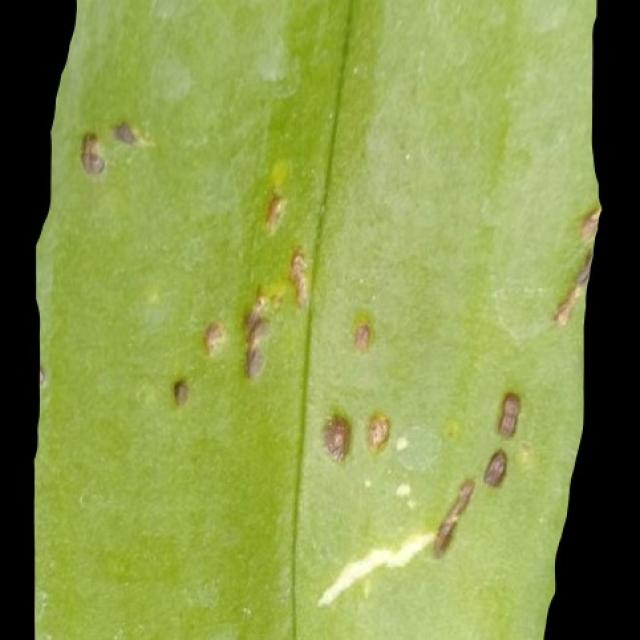mite: (315, 385, 527, 556), (316, 388, 524, 466), (479, 388, 523, 490), (319, 408, 393, 463), (495, 389, 522, 437), (365, 410, 392, 453), (482, 447, 509, 489), (200, 319, 227, 357), (110, 118, 138, 146), (440, 414, 462, 441)
spots: (33, 0, 601, 639)
sunburn: (317, 410, 355, 466)
